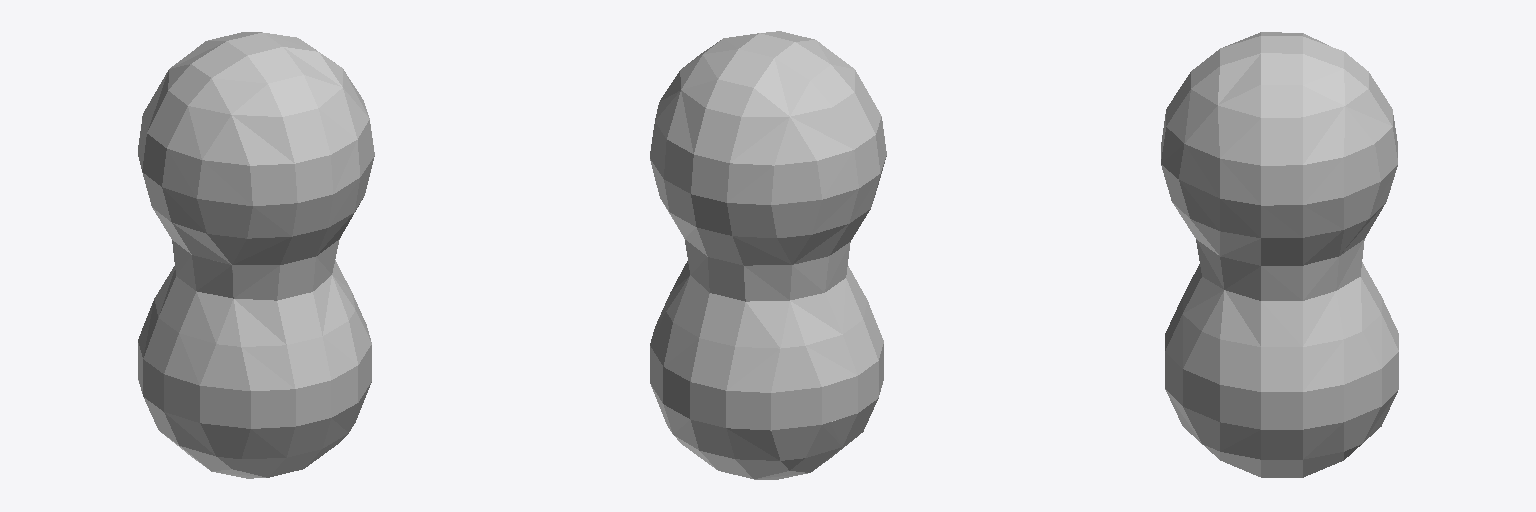
The picture shows the model from 3 angles: view 1: azimuth 30°, elevation 25°; view 2: azimuth 150°, elevation 25°; view 3: azimuth 270°, elevation 25°; orthographic projection.
Visible parts, largest first — view 1: Mball.002_Mesh; view 2: Mball.002_Mesh; view 3: Mball.002_Mesh.
Part boxes in pixels (bbox=[...]): Mball.002_Mesh: bbox=[138, 32, 374, 478]; Mball.002_Mesh: bbox=[650, 31, 886, 479]; Mball.002_Mesh: bbox=[1161, 32, 1398, 477].
Size of the model in its own units: 0.5168 by 1.01 by 0.5164.